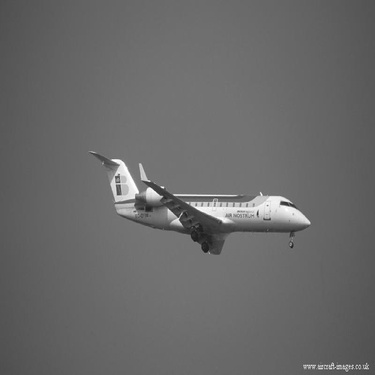airplane: (83, 137, 330, 262)
